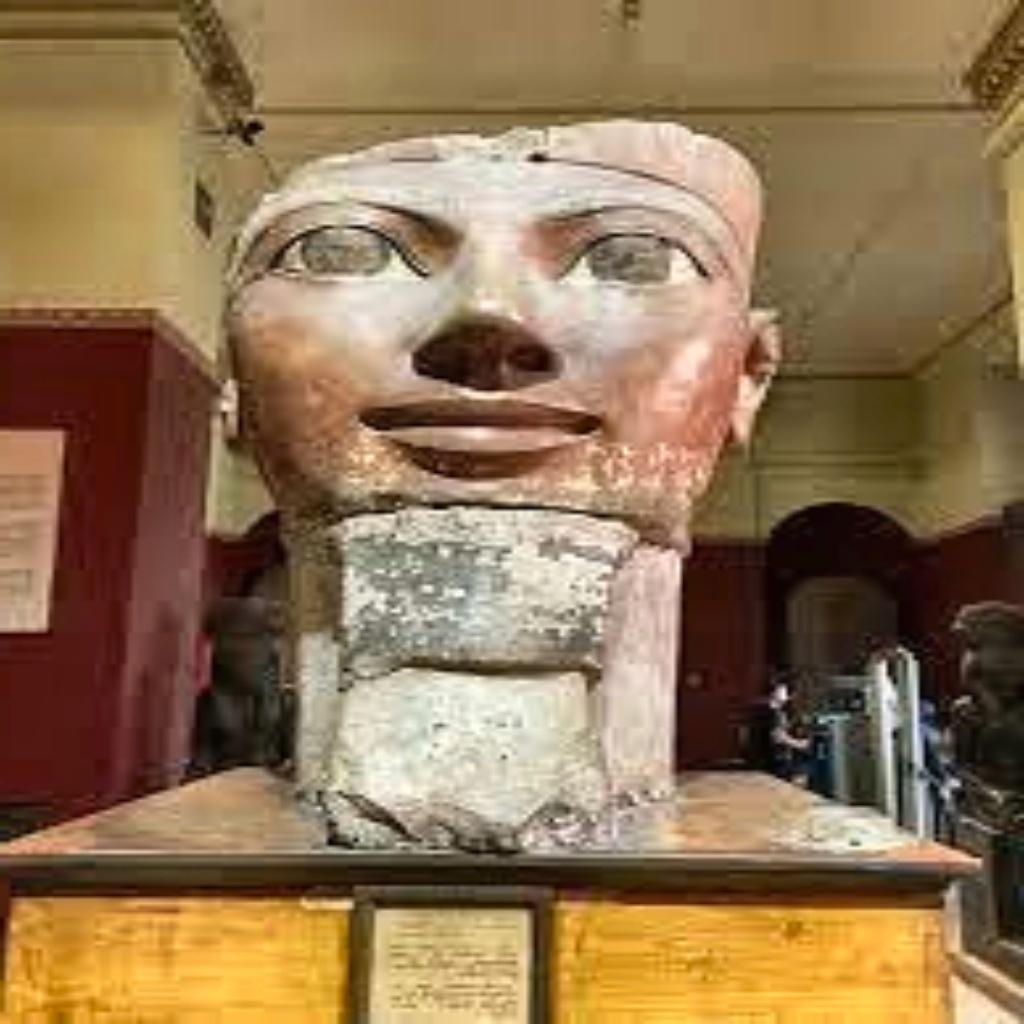Hatshepsut face: (216, 114, 782, 844)
